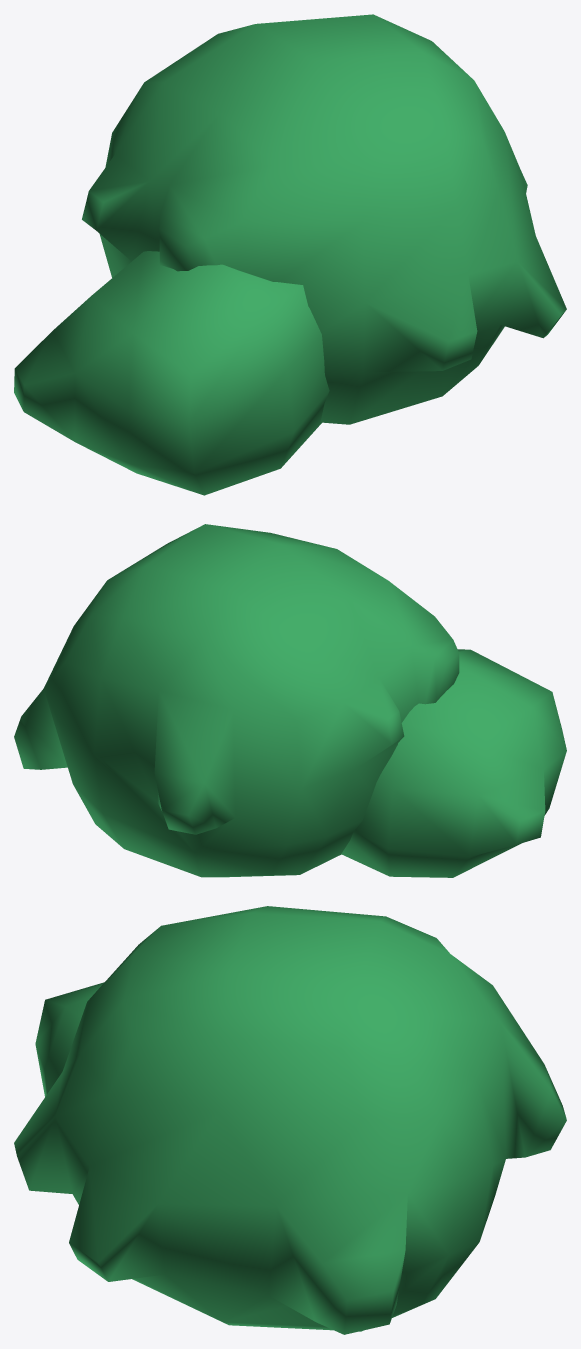
The model's file is Bush_A_02_LOD2.gltf.
3 renders of one model, top to bottom at view 1: azimuth 30°, elevation 25°; view 2: azimuth 150°, elevation 25°; view 3: azimuth 270°, elevation 25°, orthographic. The views are drawn at different scales.
Visible parts, largest first — view 1: Bush_A_02_LOD2_Cube.799; view 2: Bush_A_02_LOD2_Cube.799; view 3: Bush_A_02_LOD2_Cube.799.
Boxes of the visible parts, box(x1,y1,x2,y2) form: Bush_A_02_LOD2_Cube.799: box(14, 14, 566, 495); Bush_A_02_LOD2_Cube.799: box(14, 524, 566, 877); Bush_A_02_LOD2_Cube.799: box(14, 906, 566, 1334).
Size of the model in its own units: 4.88 by 2.9 by 3.96.
Materials: 1 (1 with a texture image).
